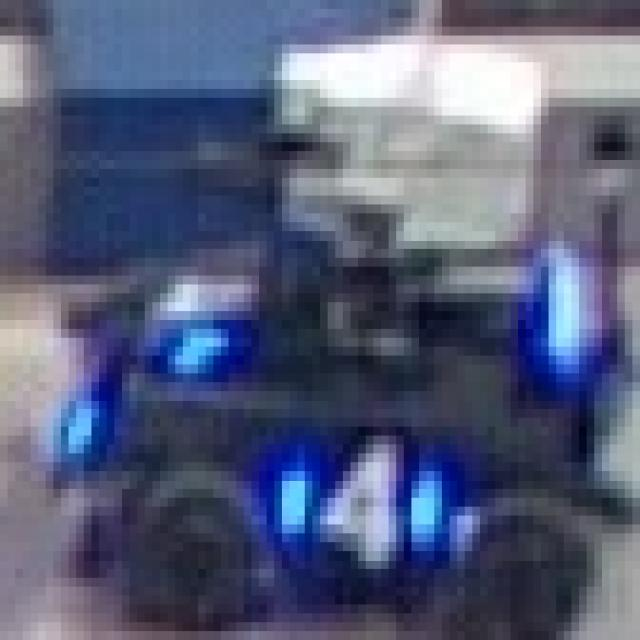B4: (274, 427, 457, 569)
